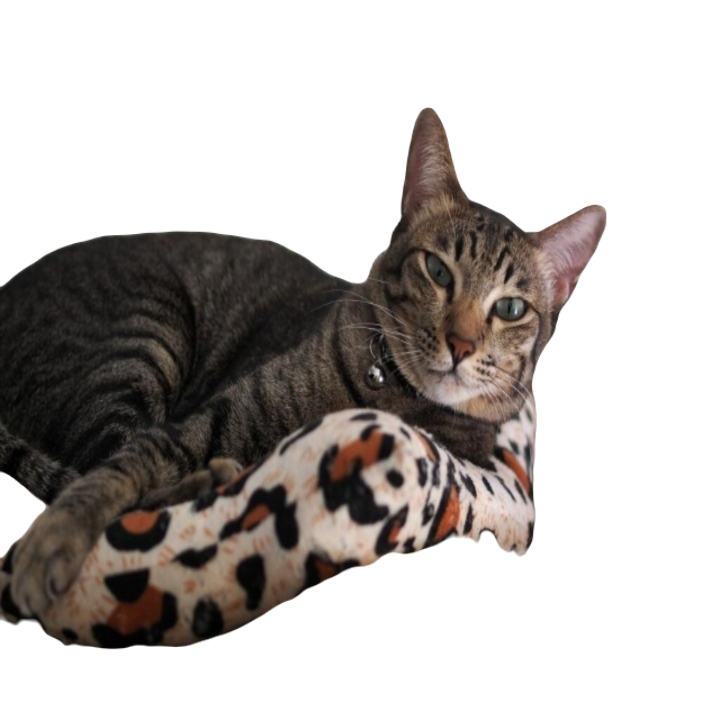Cat: (1, 76, 614, 623)
